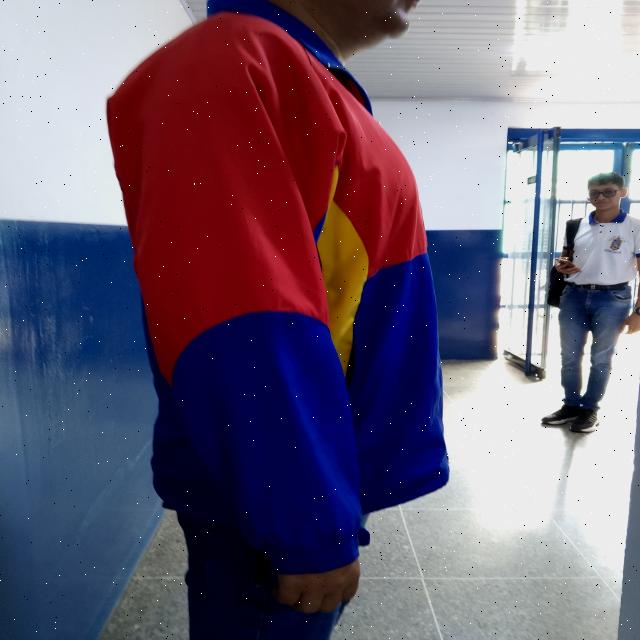chaqueta_unefa: (106, 0, 452, 576)
uniforme_superior: (561, 208, 640, 285)
